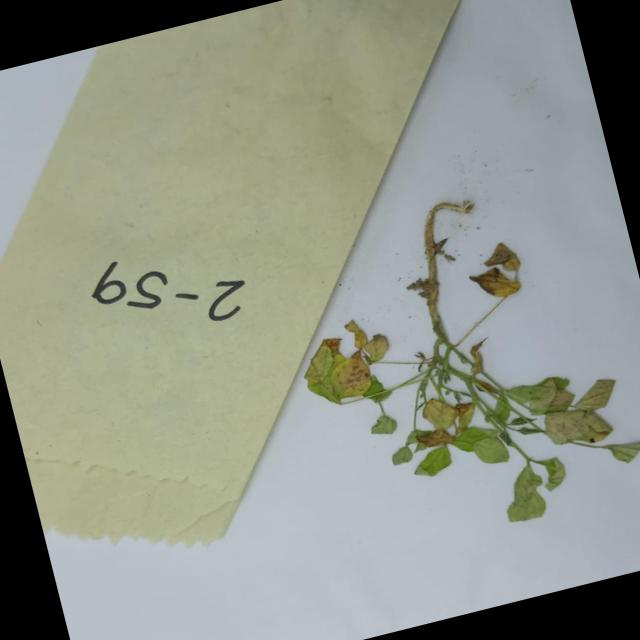Root: (421, 189, 476, 224)
Stem: (400, 225, 459, 344), (372, 350, 448, 406), (427, 330, 475, 392), (492, 378, 536, 436), (492, 414, 536, 470), (462, 371, 499, 427), (480, 366, 509, 394), (404, 392, 424, 430)
healty_leaves: (408, 422, 512, 483), (494, 452, 576, 524), (386, 431, 423, 479), (369, 412, 402, 440)
rooten_leaf: (298, 332, 373, 410), (536, 398, 618, 454), (459, 238, 526, 304), (340, 310, 394, 373), (522, 371, 575, 416), (576, 371, 630, 412), (414, 392, 464, 434), (602, 431, 640, 469), (464, 333, 497, 374), (413, 423, 458, 453), (452, 398, 483, 434)
